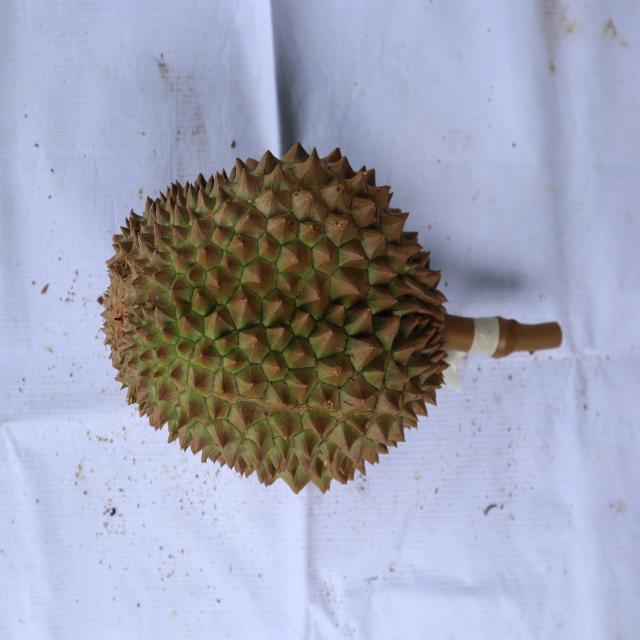mature: (99, 138, 453, 496)
